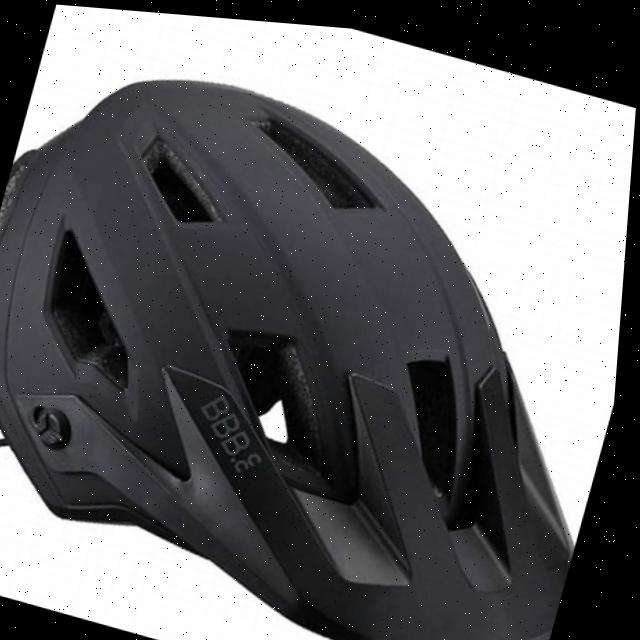illegal_helmet: (0, 18, 639, 640)
